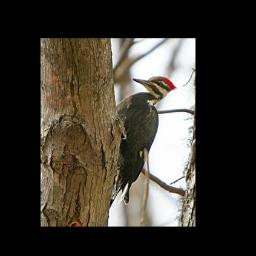Woodpecker: (108, 75, 177, 209)
